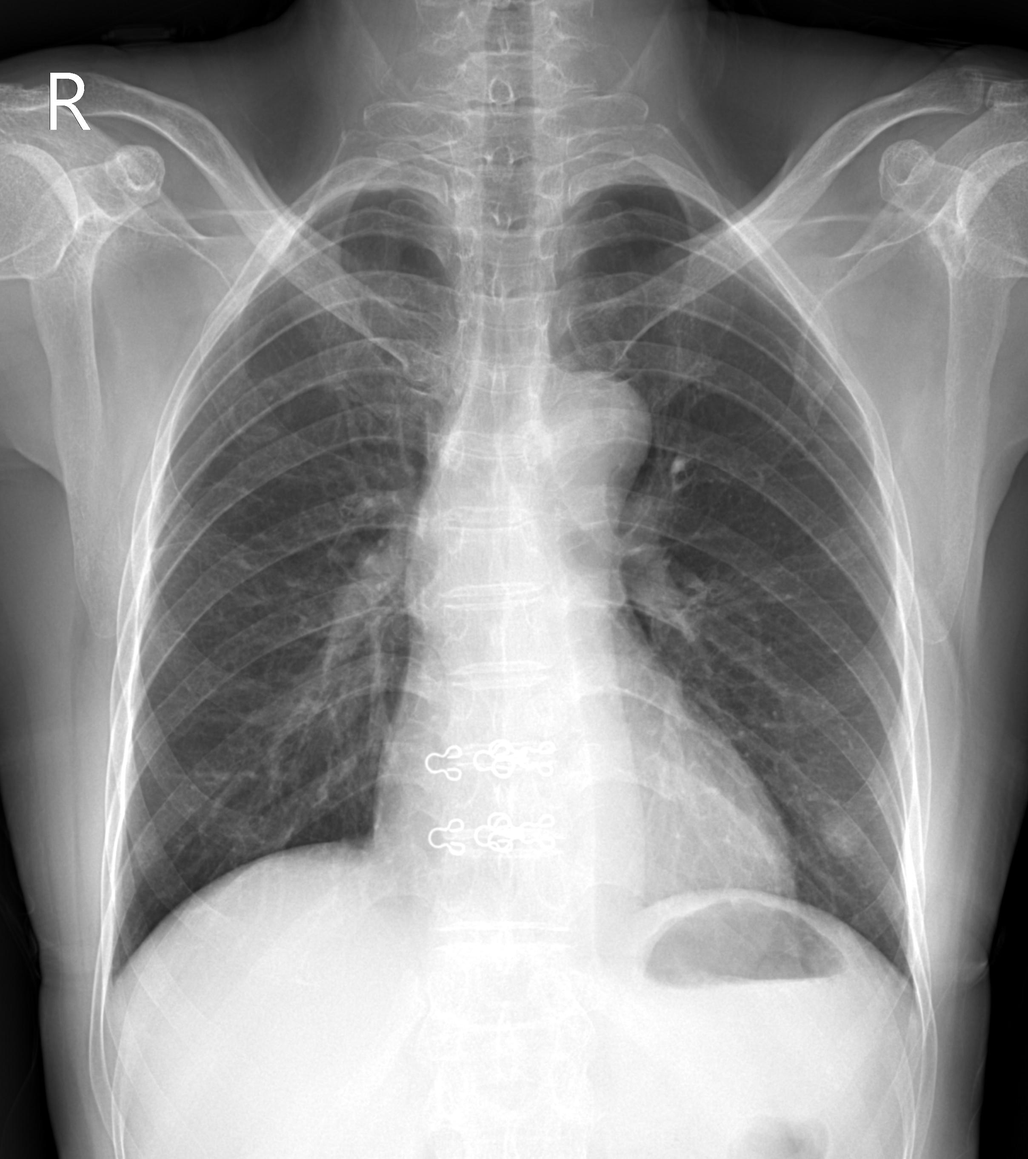Aortic enlargement: (408, 373, 650, 629)
